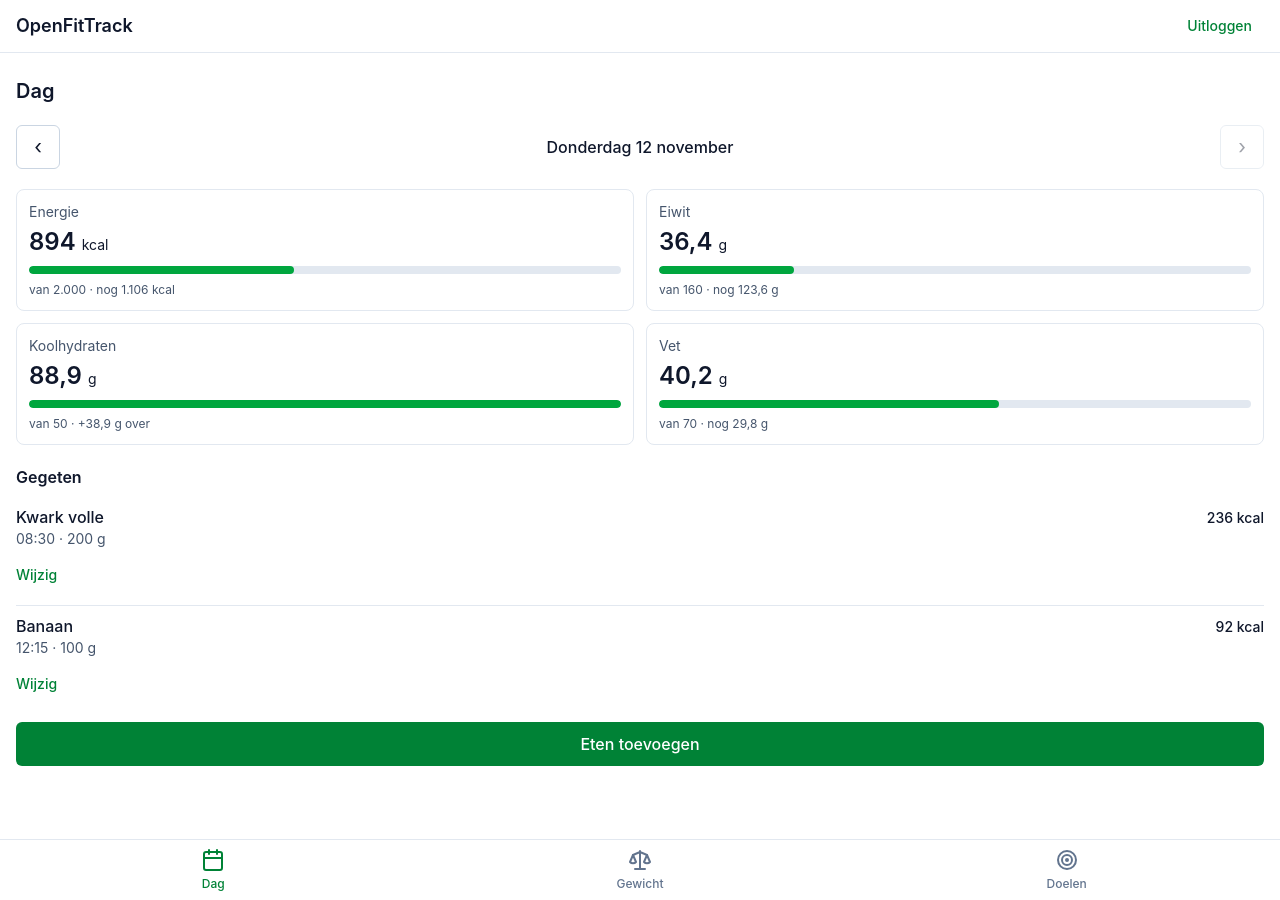
Scenario: correcting a logged line › saves a new amount and reloads the day
The width and height of the screenshot is (1280, 900).
Click the button with aria-label "Wijzig Kwark volle" at (37, 575), box 16,553 -> 57,597
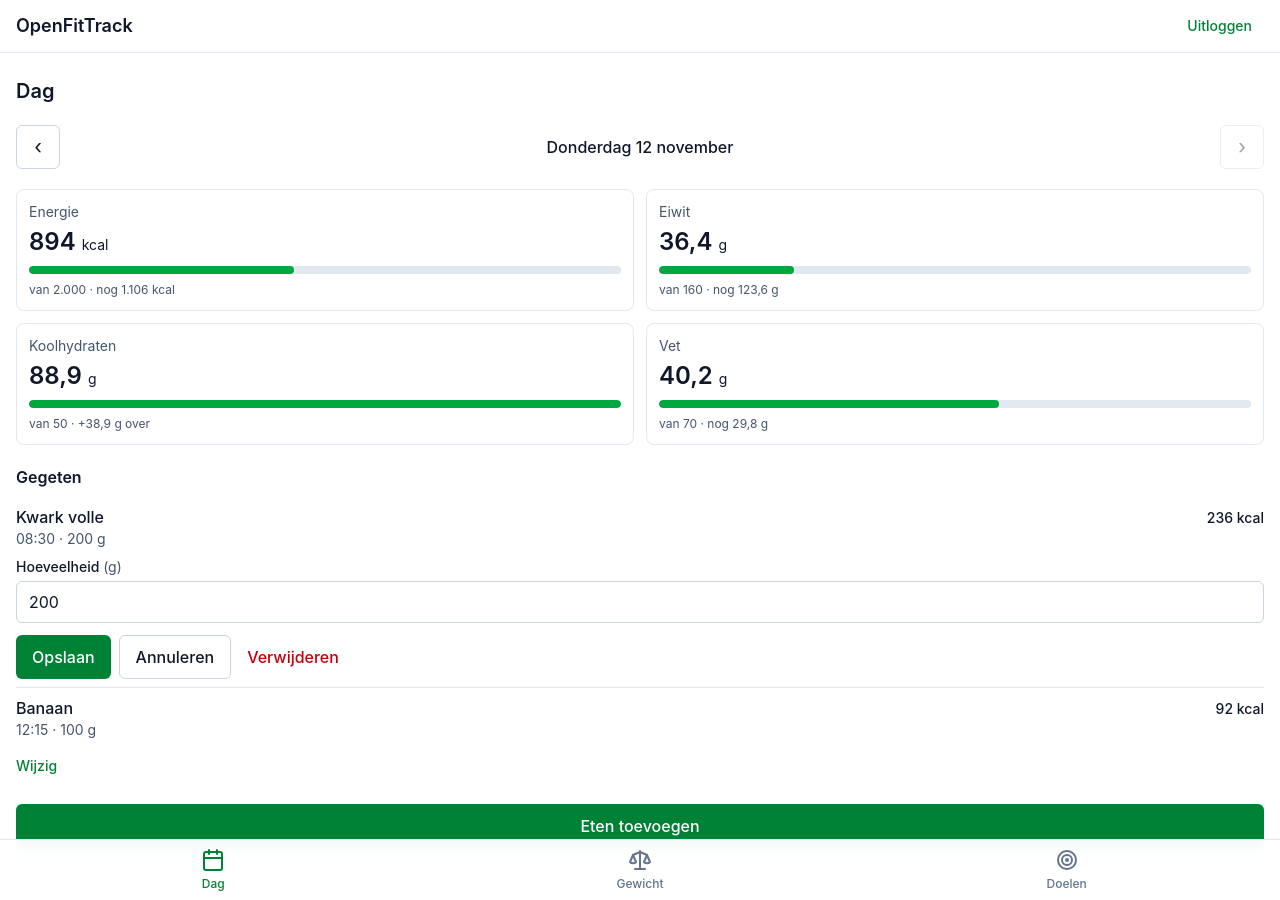
Expected: the field labelled "Hoeveelheid (g)" holds "200"
Replace the text in the field labelled "Hoeveelheid (g)" with "150" at (640, 602), box 16,581 -> 1264,623
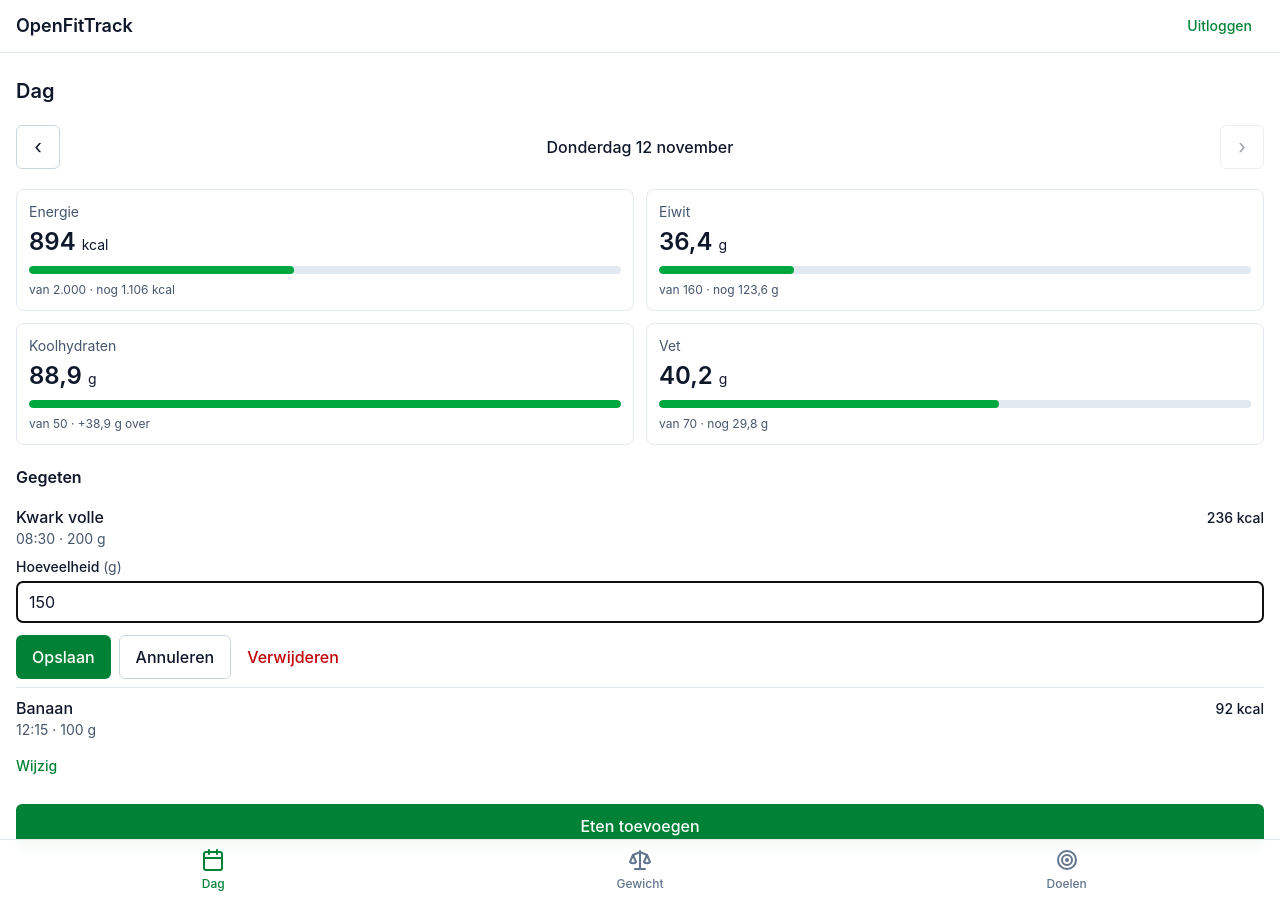
Click the button "Opslaan" at (63, 657), box 16,635 -> 111,679
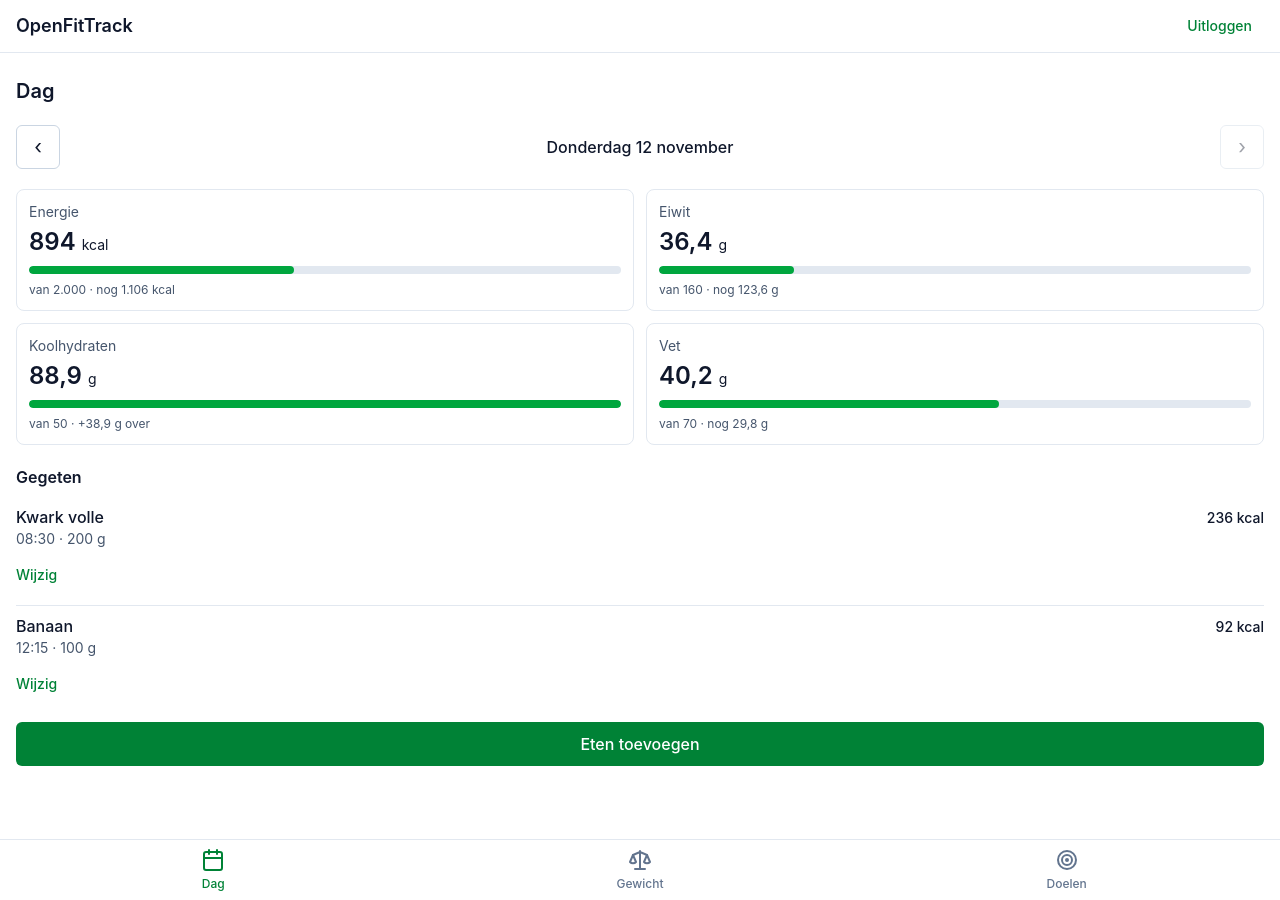
Expected: the label labelled "Hoeveelheid" is gone
